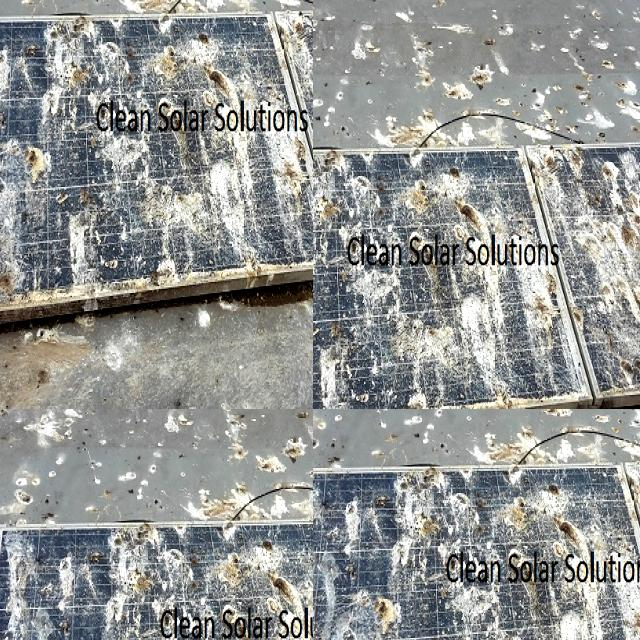bird: (545, 316, 610, 409), (548, 504, 593, 564), (393, 466, 455, 502), (401, 516, 439, 568), (338, 481, 363, 558), (370, 581, 402, 640), (496, 482, 533, 530), (313, 476, 334, 542), (532, 476, 576, 499), (510, 626, 559, 640), (628, 589, 640, 640), (626, 455, 640, 483)
crack: (34, 212, 313, 409), (191, 93, 313, 206), (134, 263, 240, 376), (257, 110, 313, 246), (0, 356, 91, 409)
hotspot: (74, 497, 176, 640), (0, 491, 31, 555)
